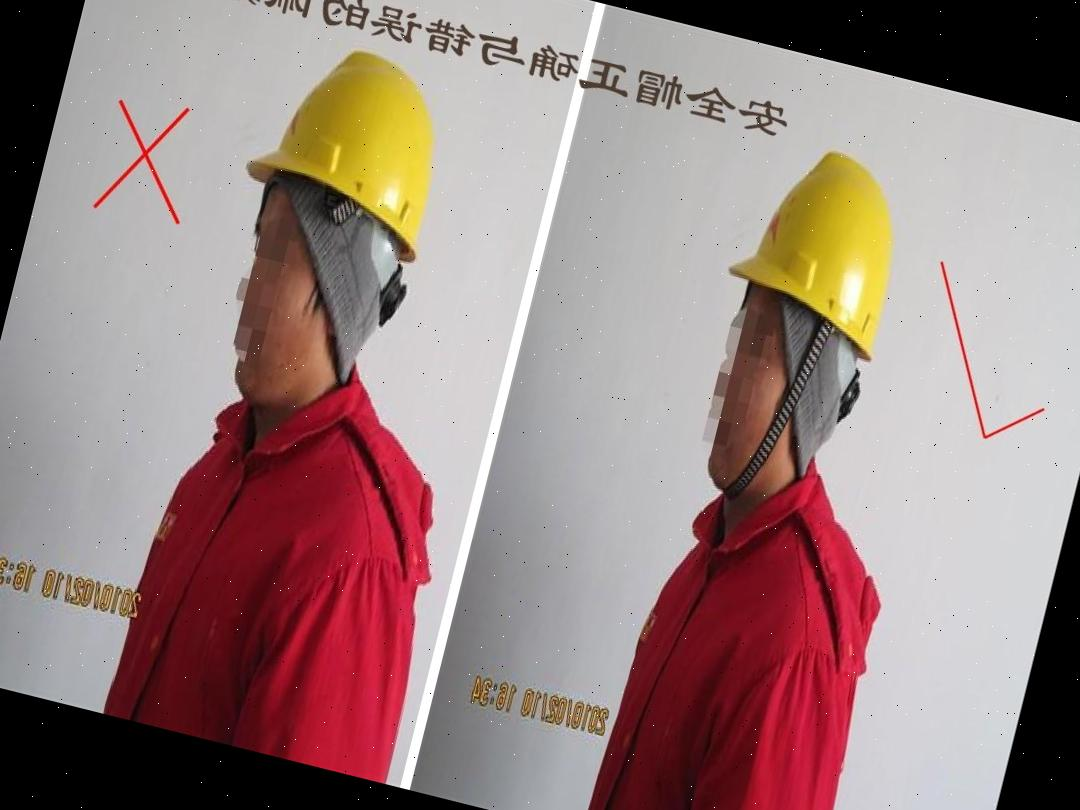helmet: (238, 31, 462, 264), (706, 127, 918, 364)
